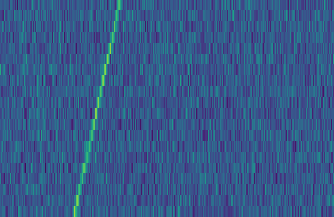signal: (67, 0, 124, 217)
